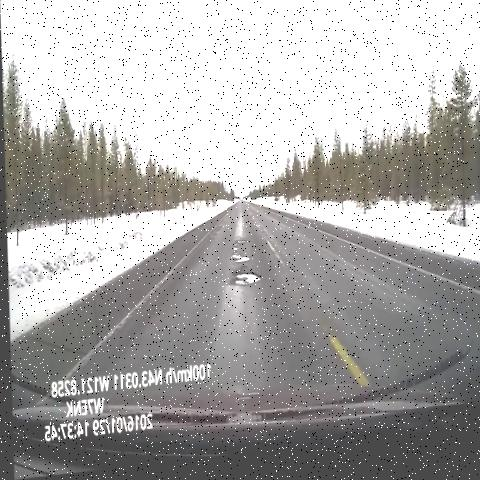pothole: (225, 269, 260, 304), (226, 242, 251, 274)
